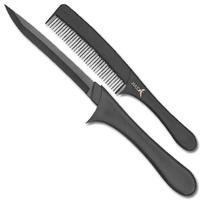knife: (2, 2, 197, 197)
